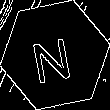N_N: (31, 26, 79, 84)
